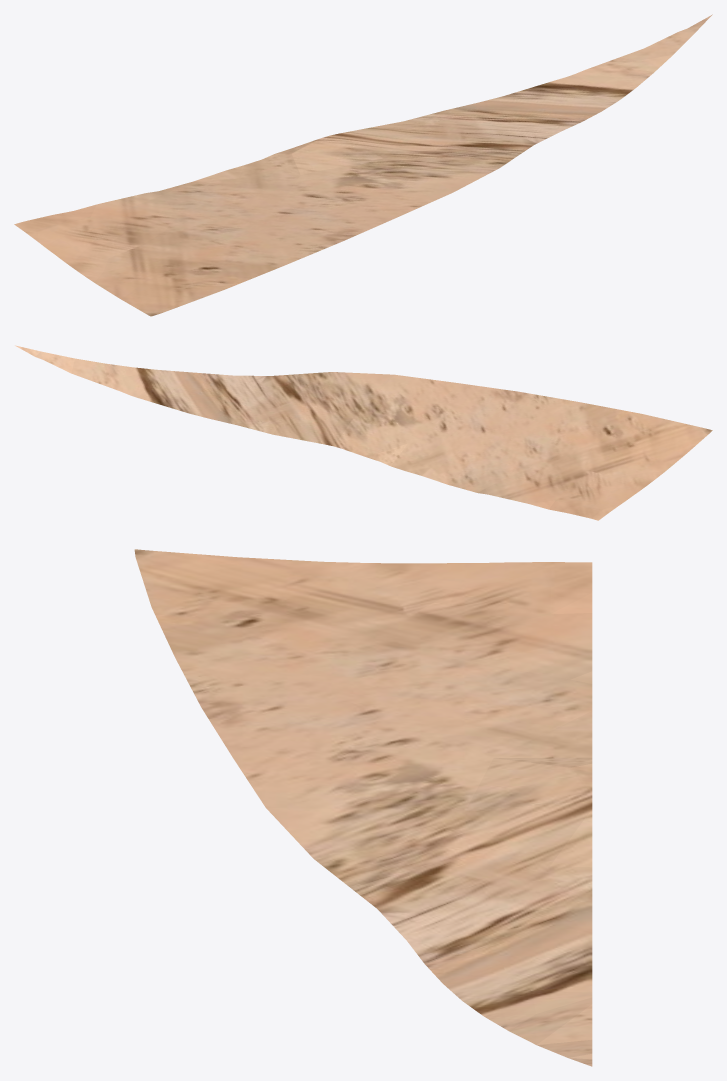
3 views of the same model, one above another, from view 1: azimuth 30°, elevation 25°; view 2: azimuth 150°, elevation 25°; view 3: azimuth 270°, elevation 25° (orthographic). The views are drawn at different scales.
Size of the model in its own units: 3.88 by 0.2206 by 1.32.
1 material, 1 textured.
